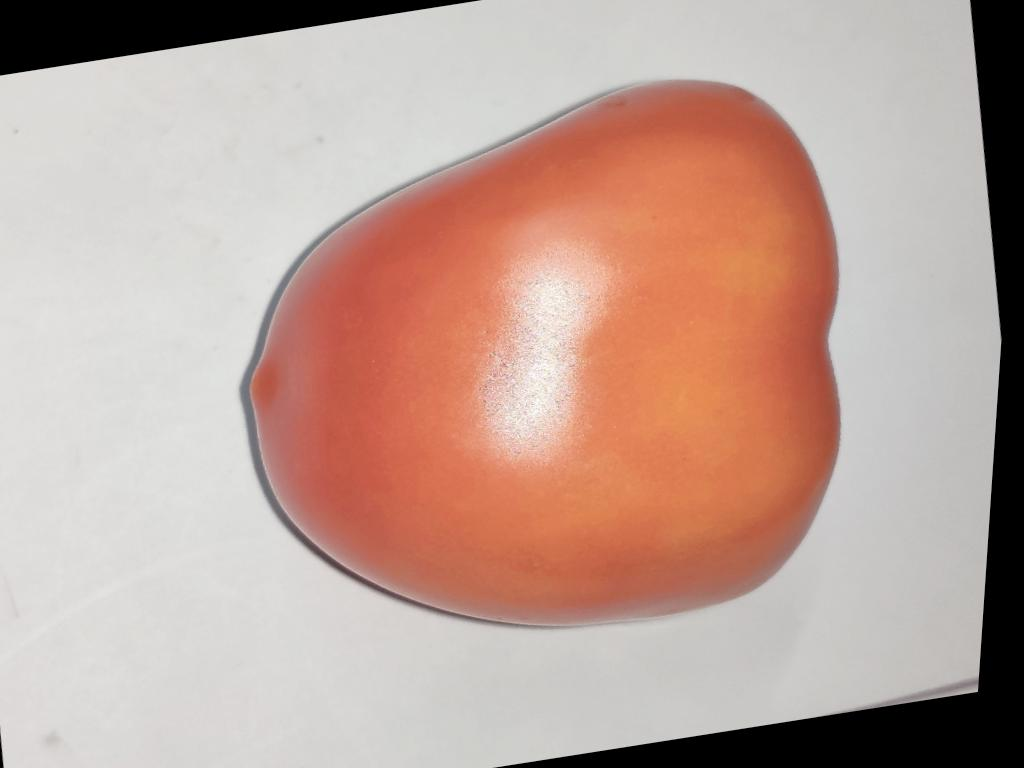tomato: (250, 81, 838, 624)
